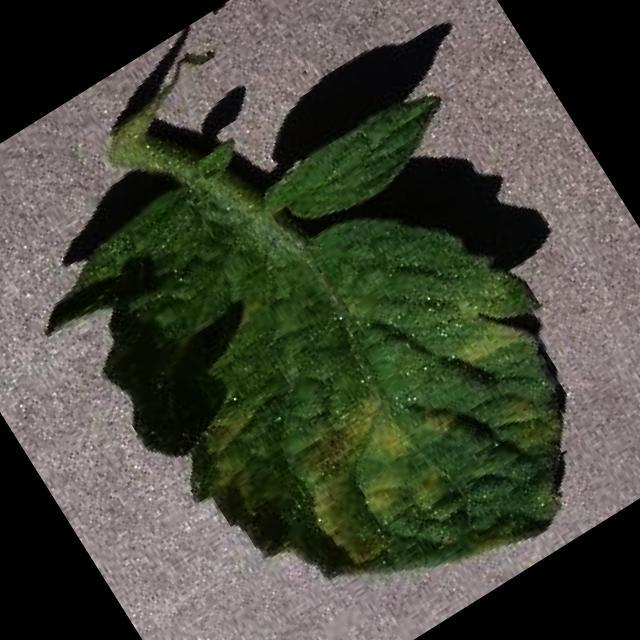Tomato mold leaf: (9, 54, 640, 640)
